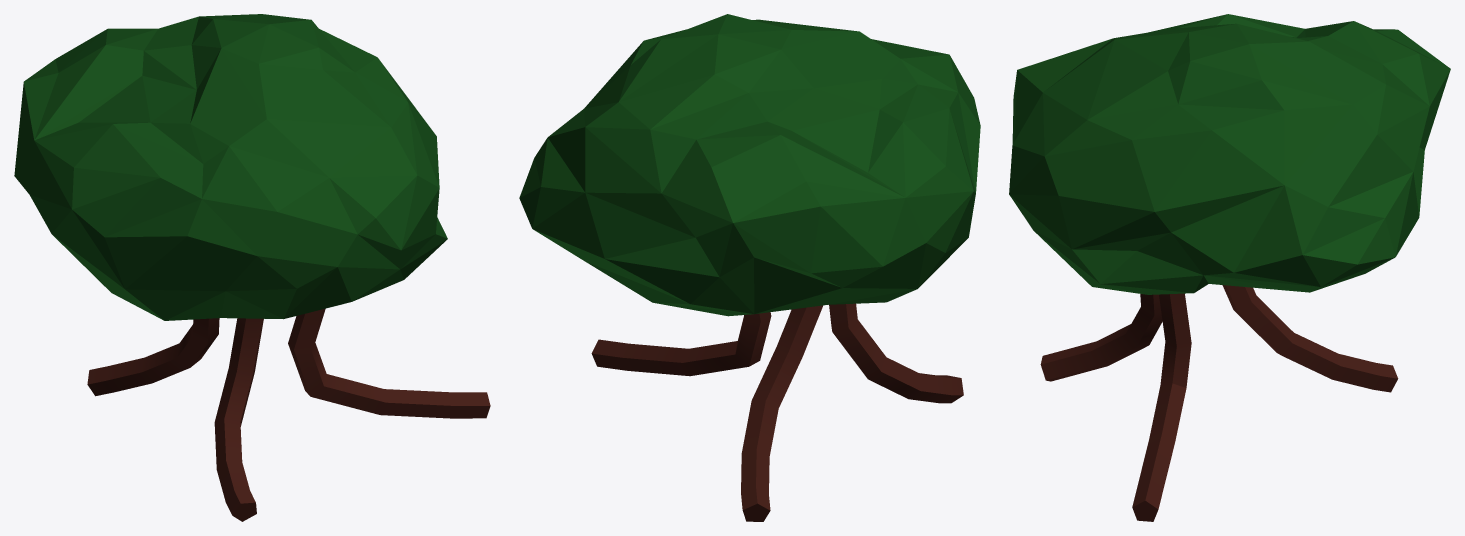
File: SM_bush_01.fbx
3 renders of one model, left to right at view 1: azimuth 30°, elevation 25°; view 2: azimuth 150°, elevation 25°; view 3: azimuth 270°, elevation 25°, orthographic. The views are drawn at different scales.
Visible parts, largest first — view 1: bush_01; view 2: bush_01; view 3: bush_01.
Part boxes in pixels (x1=…): bush_01: x1=14, y1=14, x2=490, y2=521; bush_01: x1=519, y1=14, x2=980, y2=521; bush_01: x1=1009, y1=14, x2=1450, y2=521.
Size of the model in its own units: 185 by 180 by 181.
